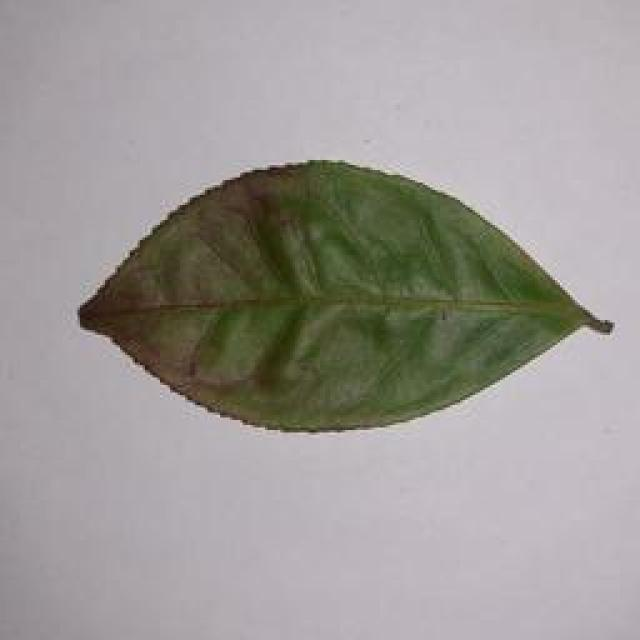Red Leaf Spot: (80, 159, 612, 449)
